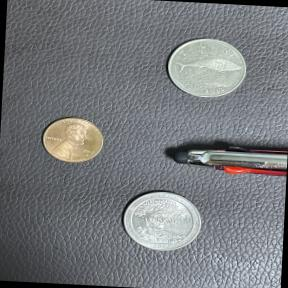coin: (158, 31, 256, 107), (113, 184, 209, 258), (34, 112, 113, 174)
